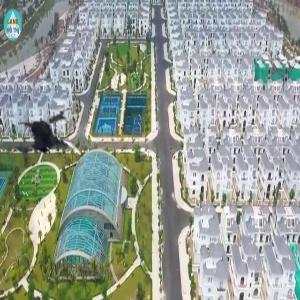drone: (6, 100, 97, 191)
